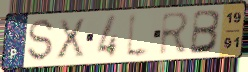4: (95, 12, 120, 61)
B: (188, 9, 223, 56)
L: (124, 10, 152, 61)
R: (158, 10, 191, 57)
S: (26, 18, 55, 63)
X: (55, 17, 87, 62)
